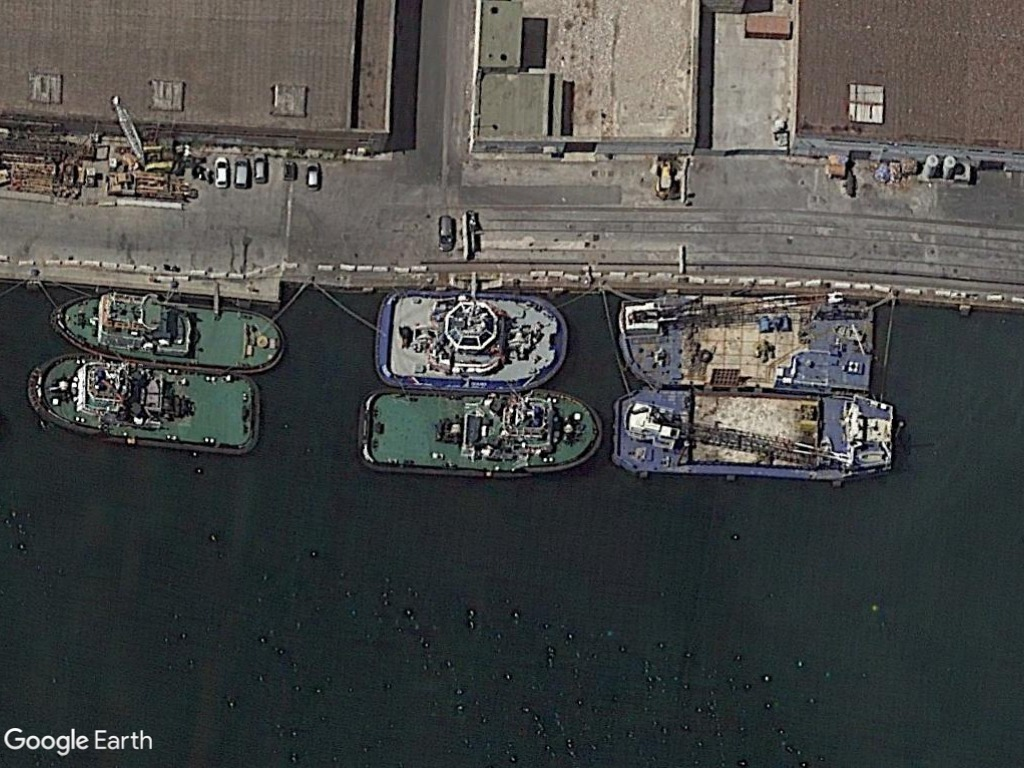boat: (610, 384, 901, 487), (27, 343, 269, 460), (358, 387, 608, 481), (45, 286, 290, 374), (368, 289, 574, 392)
car: (436, 212, 459, 256), (210, 153, 232, 192), (301, 158, 325, 192), (232, 156, 251, 192), (252, 149, 267, 186)
